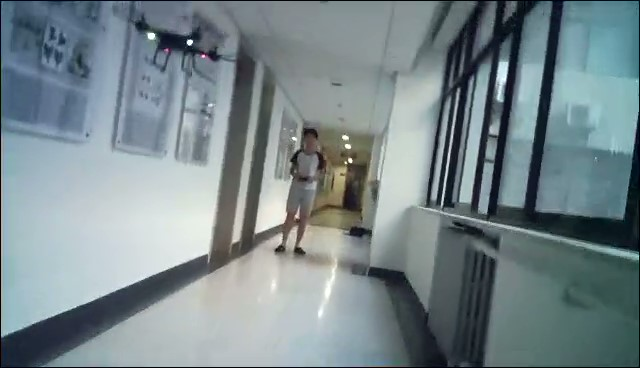drone: (110, 3, 250, 81)
person: (274, 127, 329, 256)
